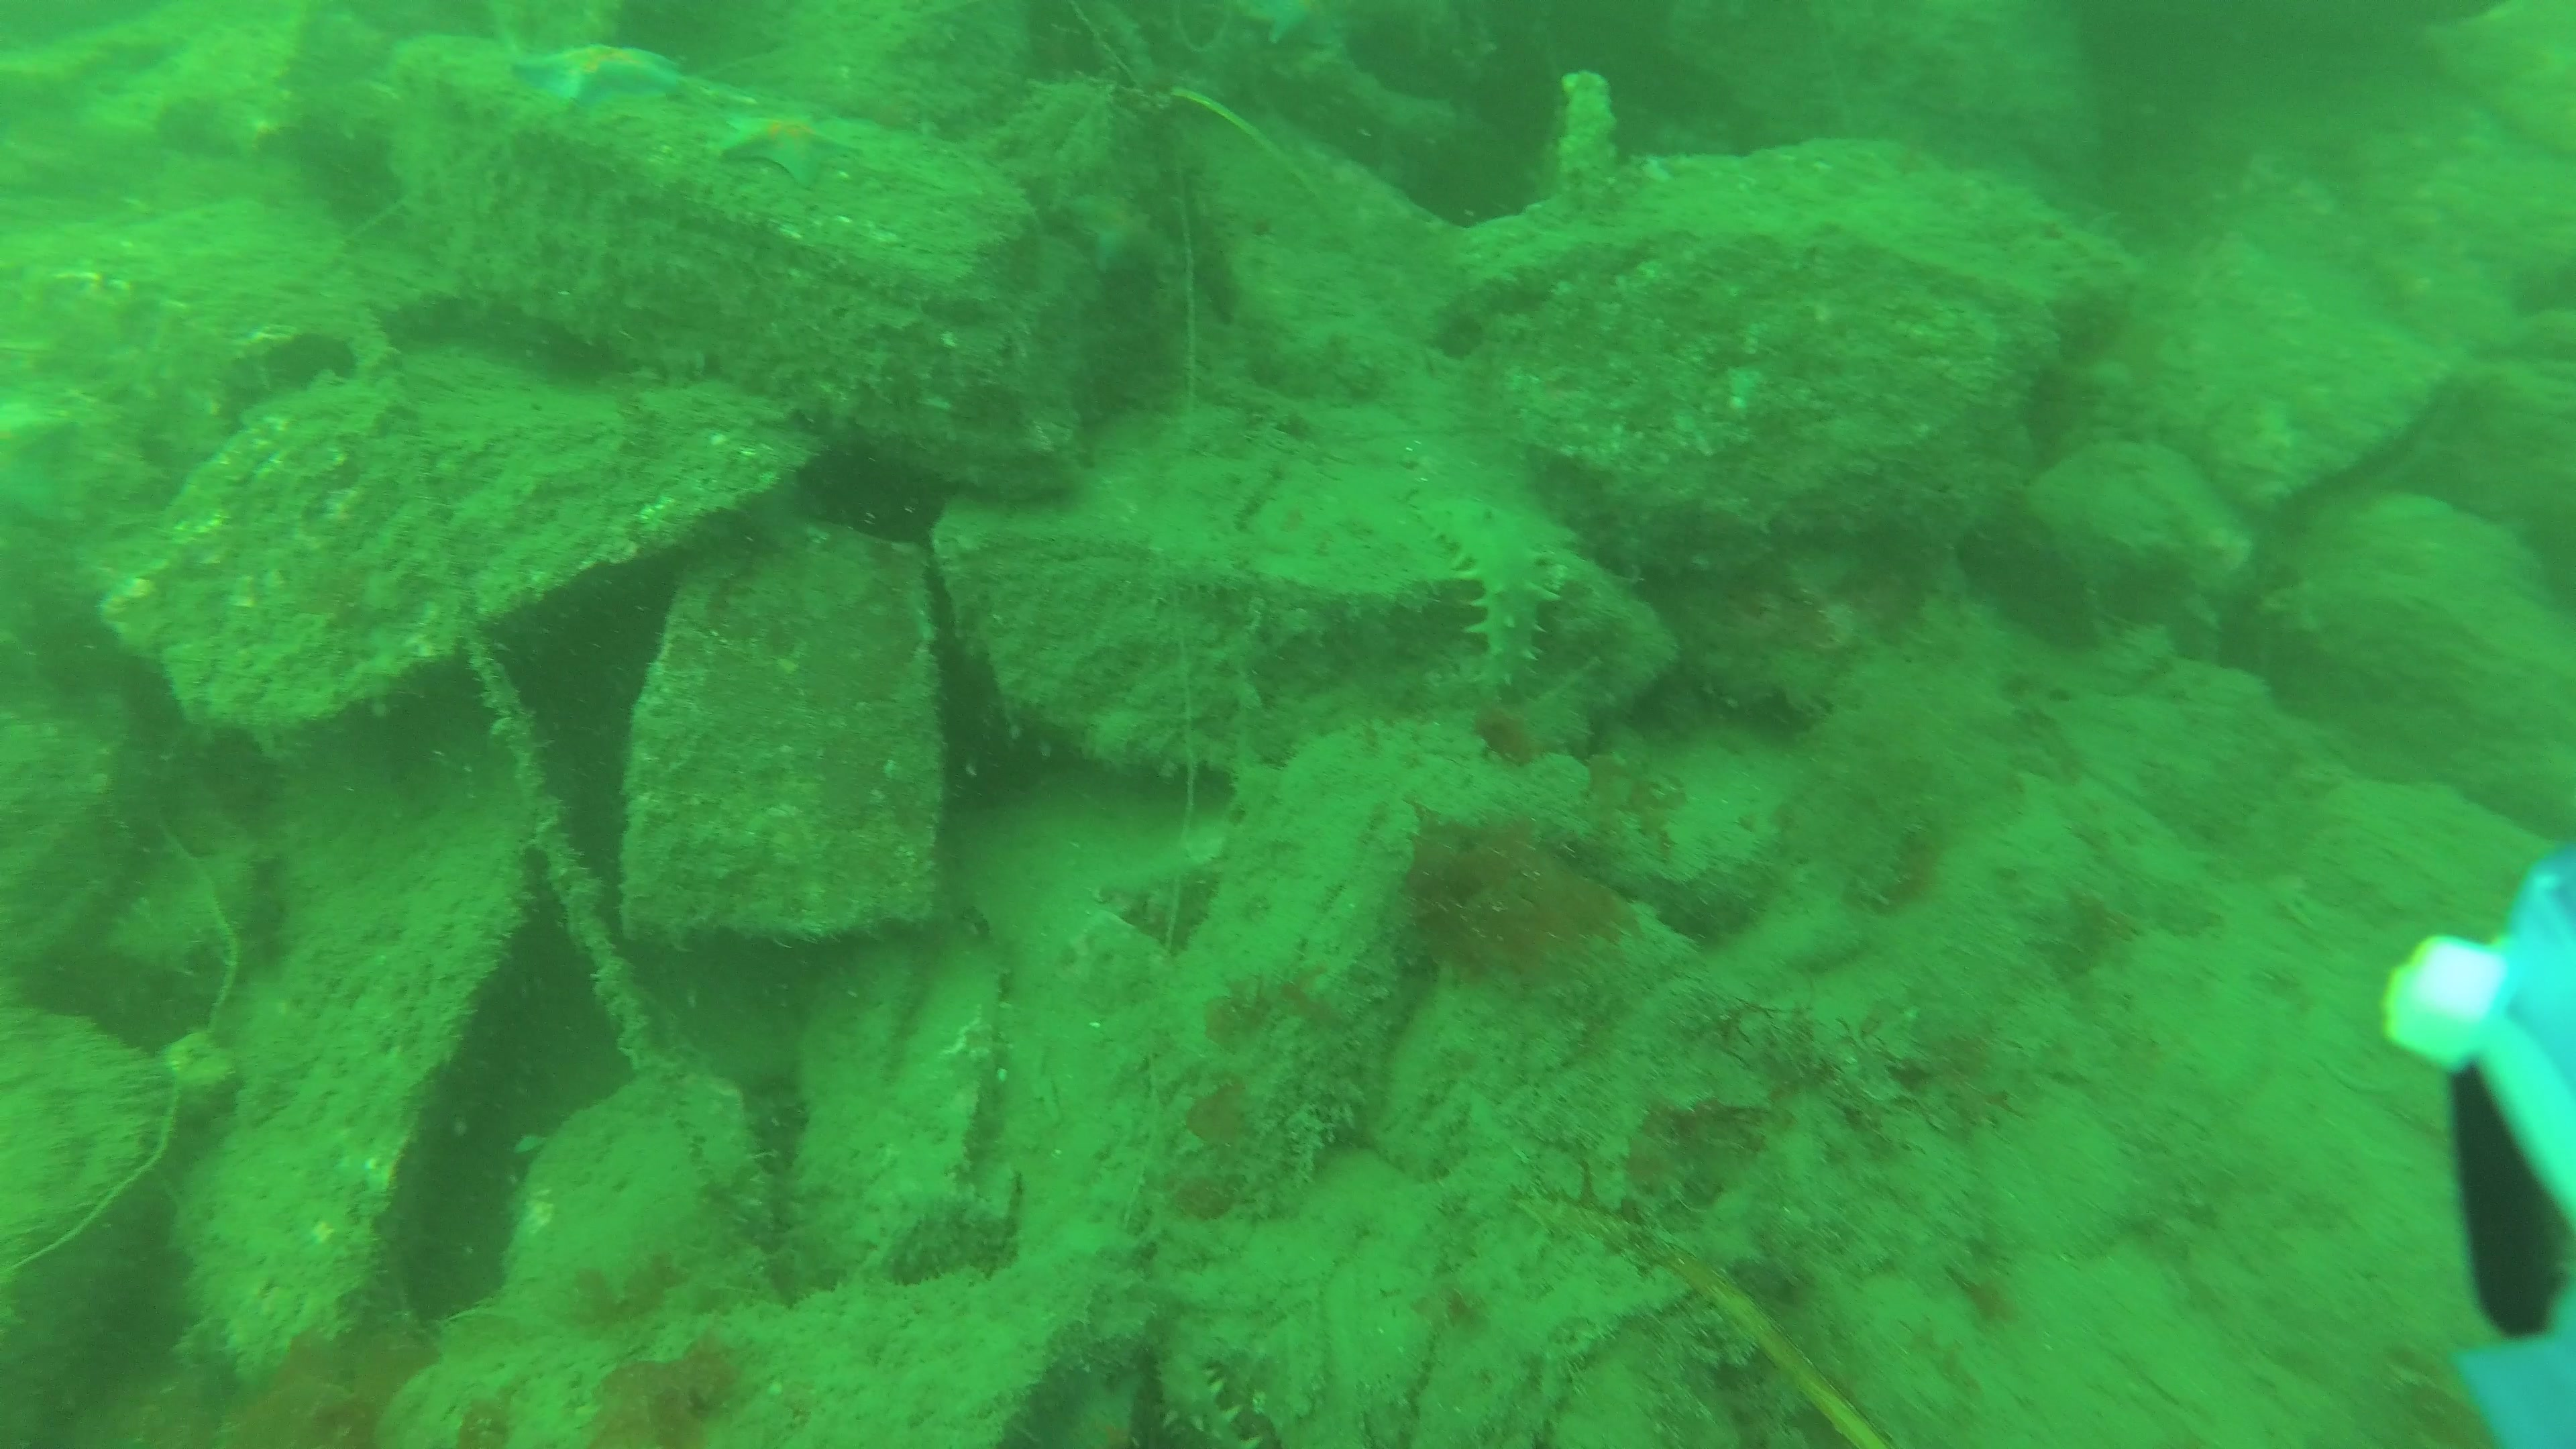holothurian: (1414, 494, 1562, 692)
starfish: (518, 44, 699, 110), (718, 108, 858, 189)
